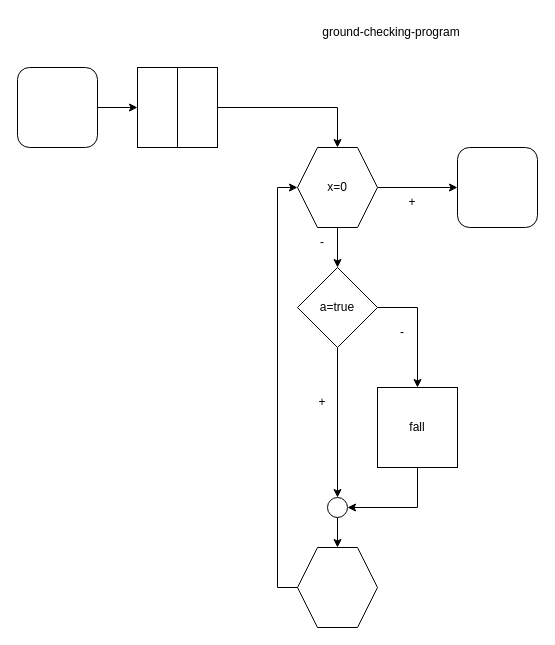
This 555x645 diagram has some shape labels left out. Each missing label, with the centre of its shape:
"a (stable ground)" goes at [157,107].
"x=1 (program running)" goes at [197,107].
